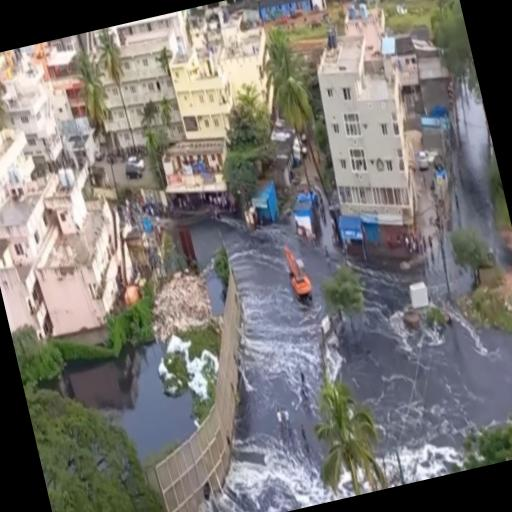flood: (219, 77, 512, 512), (61, 343, 197, 467), (188, 219, 253, 310), (225, 220, 303, 256)
house: (299, 24, 439, 273), (14, 186, 138, 354), (108, 12, 208, 148), (166, 38, 244, 169), (151, 128, 236, 234), (5, 70, 65, 178), (284, 185, 334, 250), (244, 177, 284, 227), (255, 0, 312, 24)
